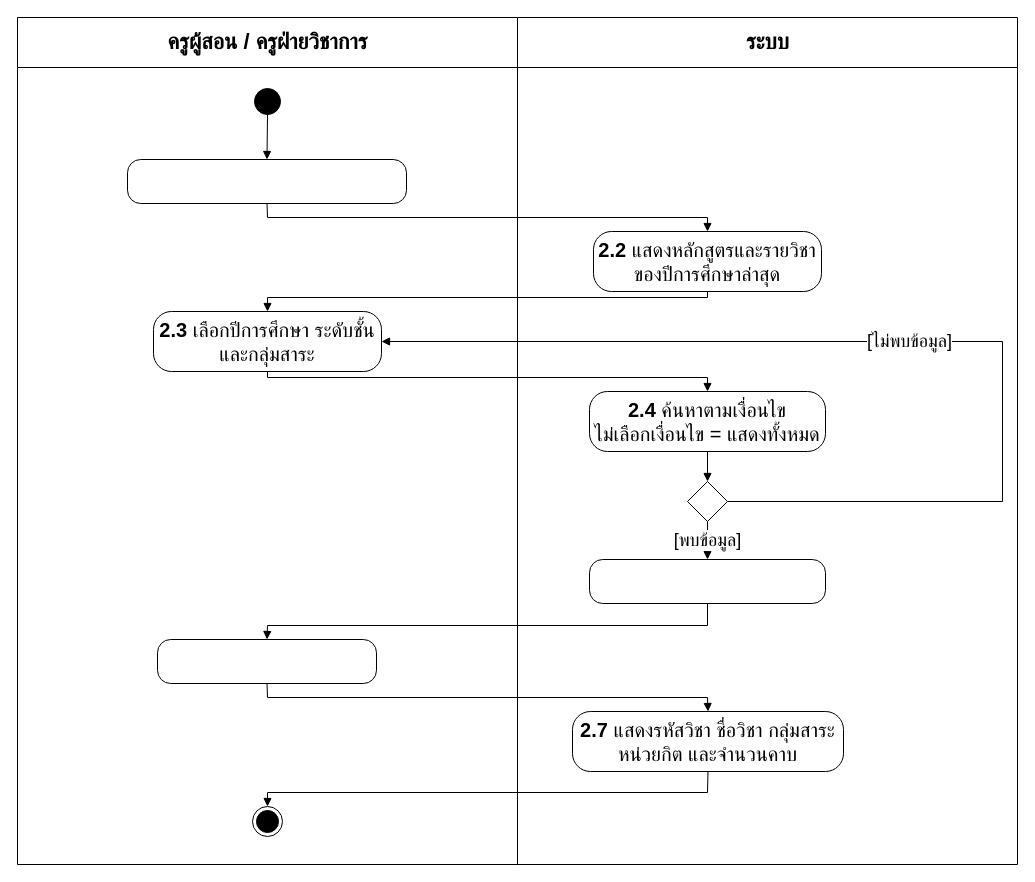
Image size: 1035x882. Some labels were removed from this diagram. The shapes that lost their labels are listed below. From the top down, each one's box as (x1, y1, x2, y2) in pixels, then its label:
(126, 158, 406, 204): 2.1 เลือกเมนู “หลักสูตรและรายวิชา”
(588, 558, 826, 604): 2.5 แสดงรายการที่ตรงเงื่อนไข
(156, 638, 376, 684): 2.6 เลือกรายการที่ต้องการดู
